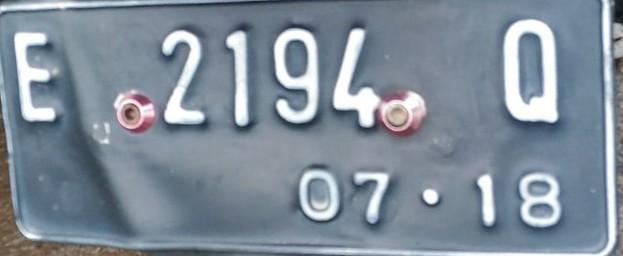1: (206, 20, 270, 138)
2: (142, 20, 220, 137)
4: (327, 20, 400, 138)
9: (260, 18, 329, 132)
E: (7, 25, 76, 132)
Q: (490, 13, 566, 134)
